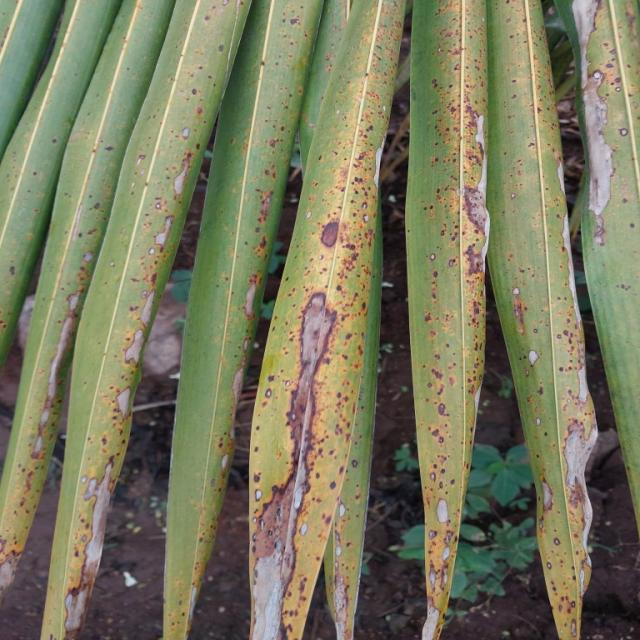gray leaf spot: (481, 0, 637, 636), (243, 164, 393, 638)
